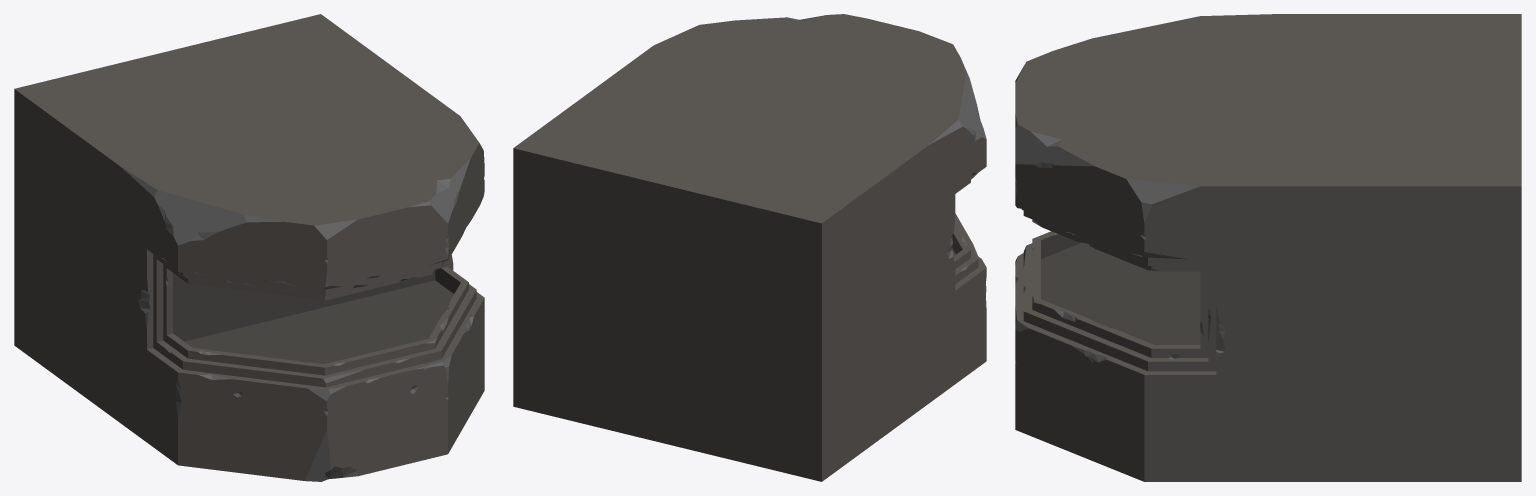
File: 20C_Bunker04.fbx
3 renders of one model, left to right at view 1: azimuth 30°, elevation 25°; view 2: azimuth 150°, elevation 25°; view 3: azimuth 270°, elevation 25°, orthographic. The views are drawn at different scales.
Parts seen in each view (by area): view 1: 20C_Bunker04; view 2: 20C_Bunker04; view 3: 20C_Bunker04.
Part boxes in pixels (x1,y1,x2,y2): 20C_Bunker04: (14, 14, 484, 481); 20C_Bunker04: (513, 14, 986, 481); 20C_Bunker04: (1015, 14, 1521, 481).
Size of the model in its own units: 99.98 by 80 by 124.
